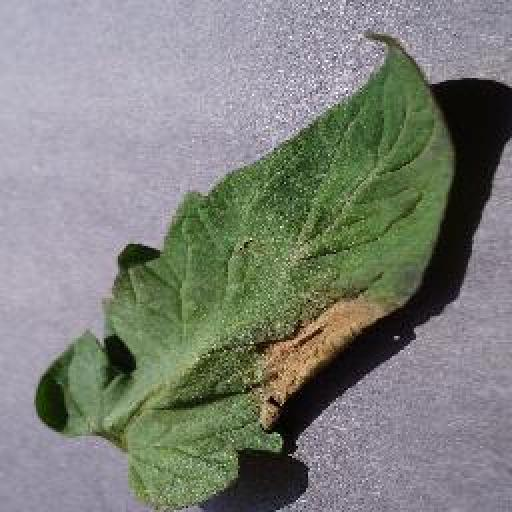Late Blight: (30, 26, 452, 512)
